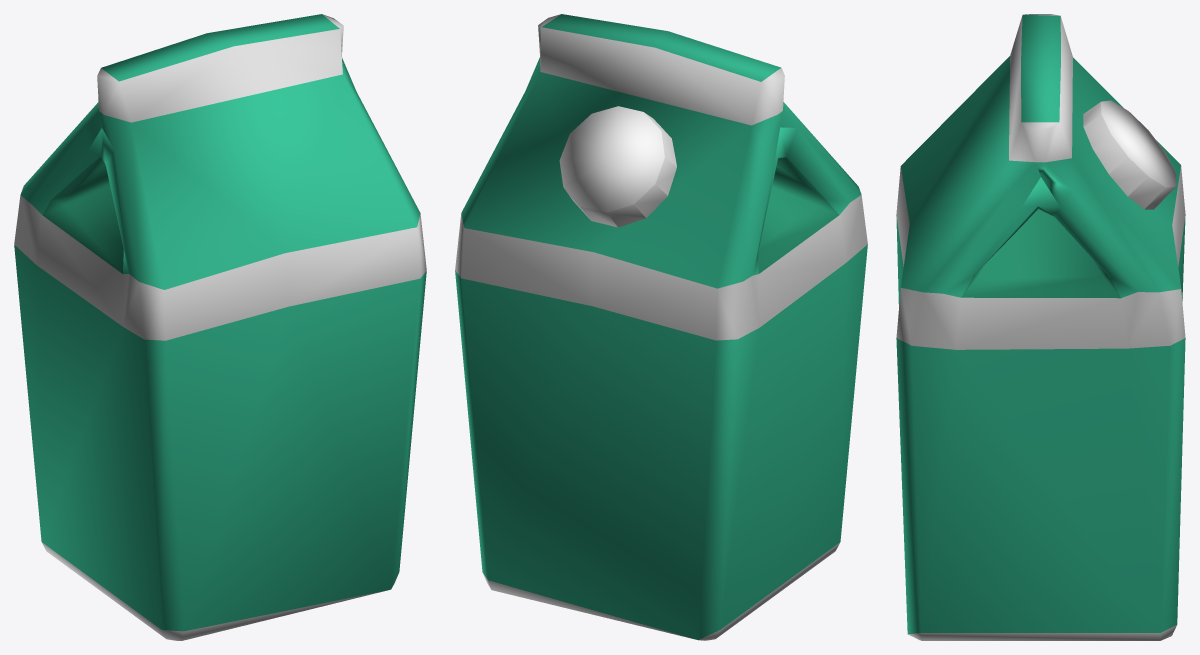
File: GreenCartoon.fbx
3 views of the same model, side by side, from view 1: azimuth 30°, elevation 25°; view 2: azimuth 150°, elevation 25°; view 3: azimuth 270°, elevation 25° (orthographic).
Parts seen in each view (by area): view 1: GreenCartoon; view 2: GreenCartoon; view 3: GreenCartoon.
Boxes of the visible parts, x1,y1,x2,y2 form: GreenCartoon: (14,14,426,640); GreenCartoon: (455,14,867,640); GreenCartoon: (896,14,1185,640).
Size of the model in its own units: 20.42 by 36.72 by 18.17.
Materials: 1 (1 with a texture image).
